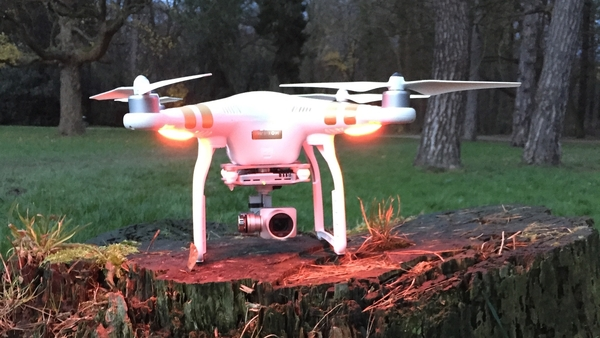drone: (87, 68, 525, 258)
